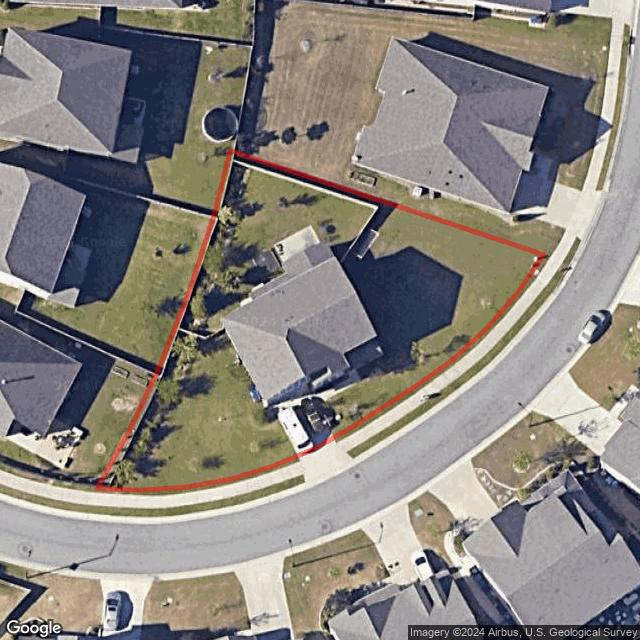Driveway: (271, 393, 333, 453)
Extra-Driveway: (300, 441, 355, 486)
Extra-Lawn: (332, 253, 549, 442), (96, 457, 301, 495)
Extra-Sidewalk: (338, 258, 562, 454), (90, 460, 306, 510)
House: (219, 240, 378, 405)
Lawn: (97, 151, 545, 492)
Other: (113, 160, 251, 491), (345, 263, 570, 460), (233, 159, 379, 264), (89, 475, 305, 517), (271, 223, 322, 264), (349, 226, 382, 260), (179, 325, 225, 342)
Sidewalk: (315, 367, 363, 406)
